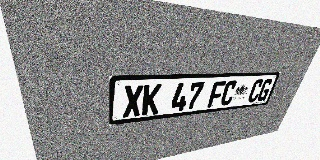4: (170, 83, 190, 112)
7: (185, 82, 205, 110)
C: (219, 80, 238, 106), (246, 79, 265, 103)
F: (207, 81, 226, 108)
G: (256, 79, 274, 102)
K: (141, 84, 162, 115)
X: (123, 85, 143, 118)
